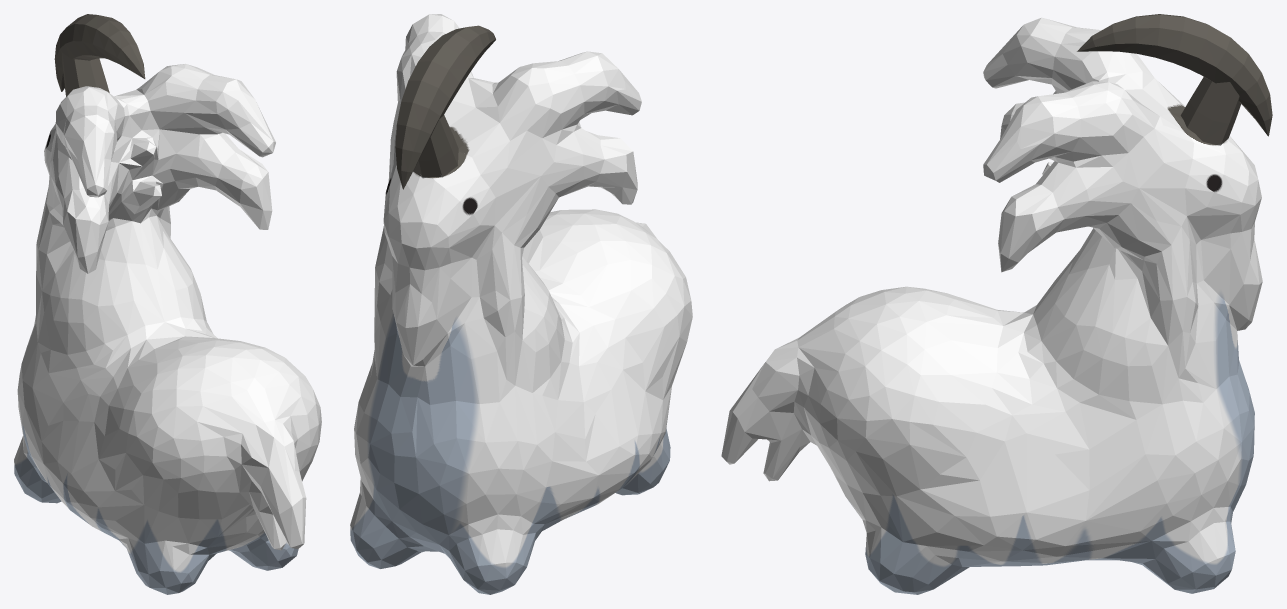
The model's file is animal_alphathrumbo_blob.obj.
3 views of the same model, side by side, from view 1: azimuth 30°, elevation 25°; view 2: azimuth 150°, elevation 25°; view 3: azimuth 270°, elevation 25° (orthographic). The views are drawn at different scales.
Visible parts, largest first — view 1: animal_alphathrumbo_blob; view 2: animal_alphathrumbo_blob; view 3: animal_alphathrumbo_blob.
Boxes of the visible parts, x1=… form: animal_alphathrumbo_blob: x1=14, y1=14, x2=321, y2=594; animal_alphathrumbo_blob: x1=350, y1=14, x2=692, y2=594; animal_alphathrumbo_blob: x1=721, y1=14, x2=1272, y2=594.
Size of the model in its own units: 1.26 by 2.79 by 2.53.
